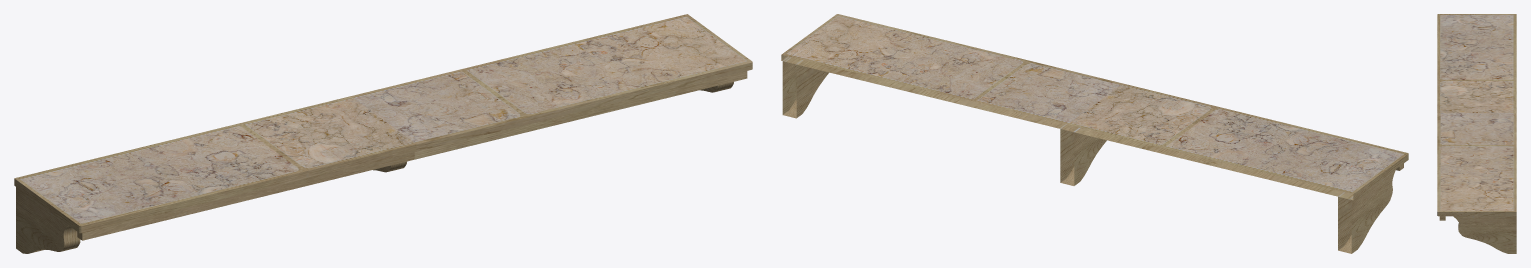
Rendered from SM_Windowsill_LG.fbx.
The picture shows the model from 3 angles, left to right: view 1: azimuth 30°, elevation 25°; view 2: azimuth 150°, elevation 25°; view 3: azimuth 270°, elevation 25°; orthographic projection. The views are drawn at different scales.
Visible parts, largest first — view 1: SM_Windowsill_LG; view 2: SM_Windowsill_LG; view 3: SM_Windowsill_LG.
Boxes of the visible parts, <box> form: SM_Windowsill_LG: <box>14,14,752,253</box>; SM_Windowsill_LG: <box>781,14,1408,253</box>; SM_Windowsill_LG: <box>1437,14,1516,253</box>.
Size of the model in its own units: 295 by 50 by 29.57.
Materials: 1 (1 with a texture image).
